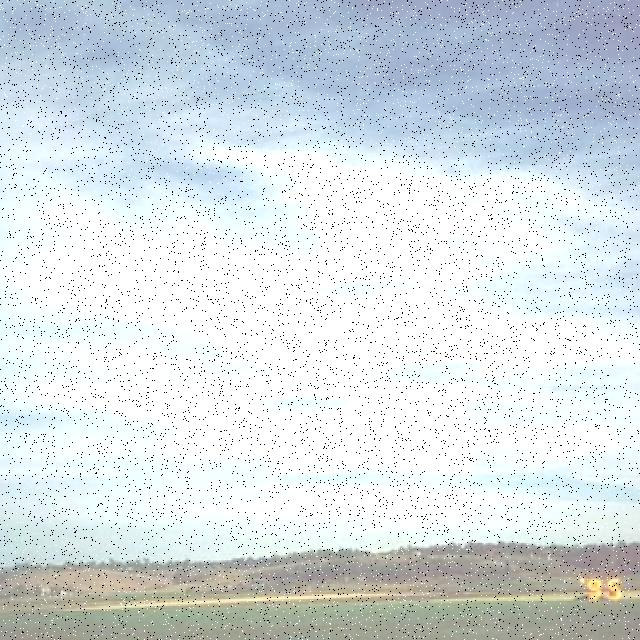Cs: (1, 59, 640, 547)
